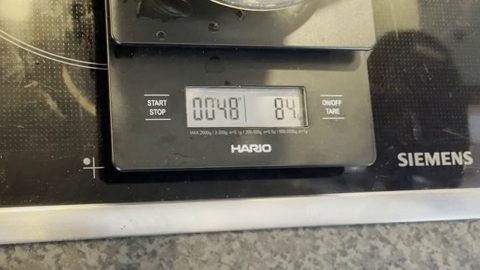display: (187, 86, 306, 127)
